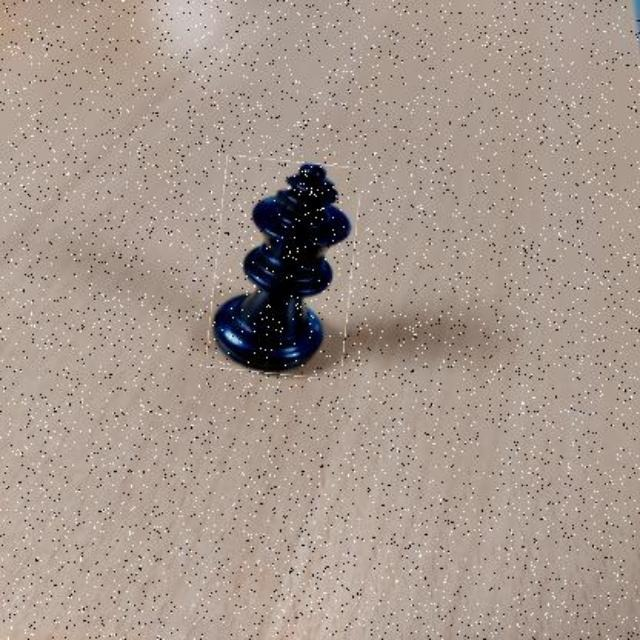black-king: (212, 159, 358, 377)
